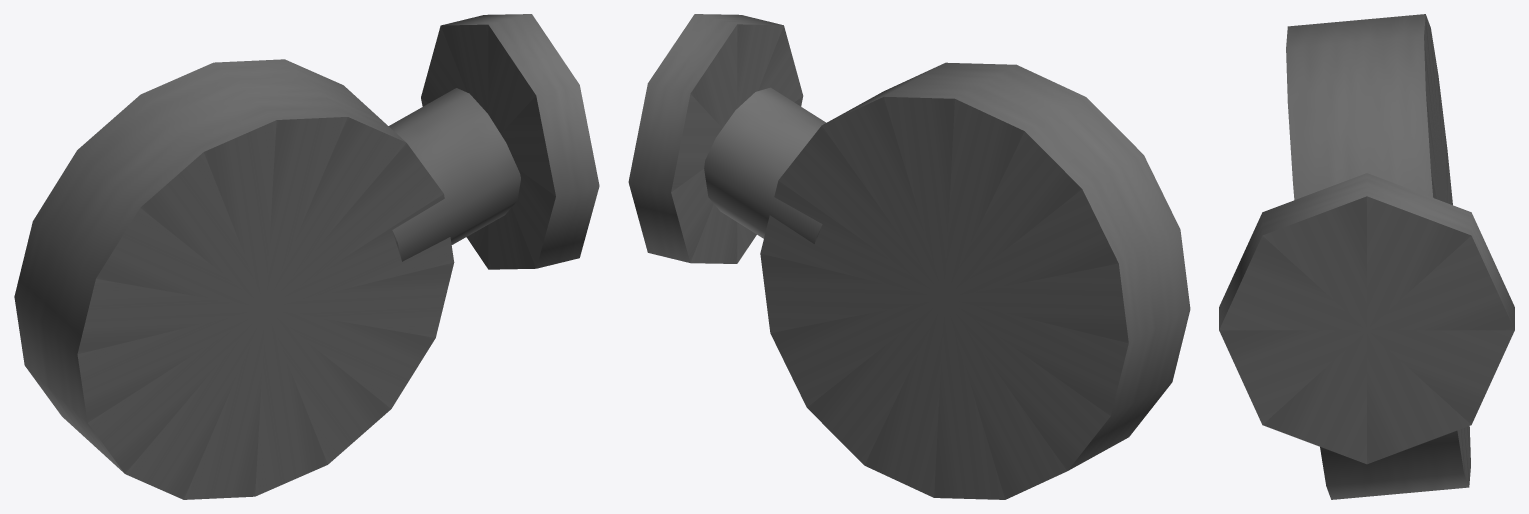
File: mastarmcurve_10x2_c9_east.obj
3 renders of one model, left to right at view 1: azimuth 30°, elevation 25°; view 2: azimuth 150°, elevation 25°; view 3: azimuth 270°, elevation 25°, orthographic. The views are drawn at different scales.
Parts seen in each view (by area): view 1: mastarm_10x2_c9_east; view 2: mastarm_10x2_c9_east; view 3: mastarm_10x2_c9_east.
Part boxes in pixels (<box>): mastarm_10x2_c9_east: <box>14,14,599,499</box>; mastarm_10x2_c9_east: <box>628,14,1190,499</box>; mastarm_10x2_c9_east: <box>1219,14,1514,499</box>.
Bounding box in the file's own units: 0.8212 × 0.6589 × 0.4.
